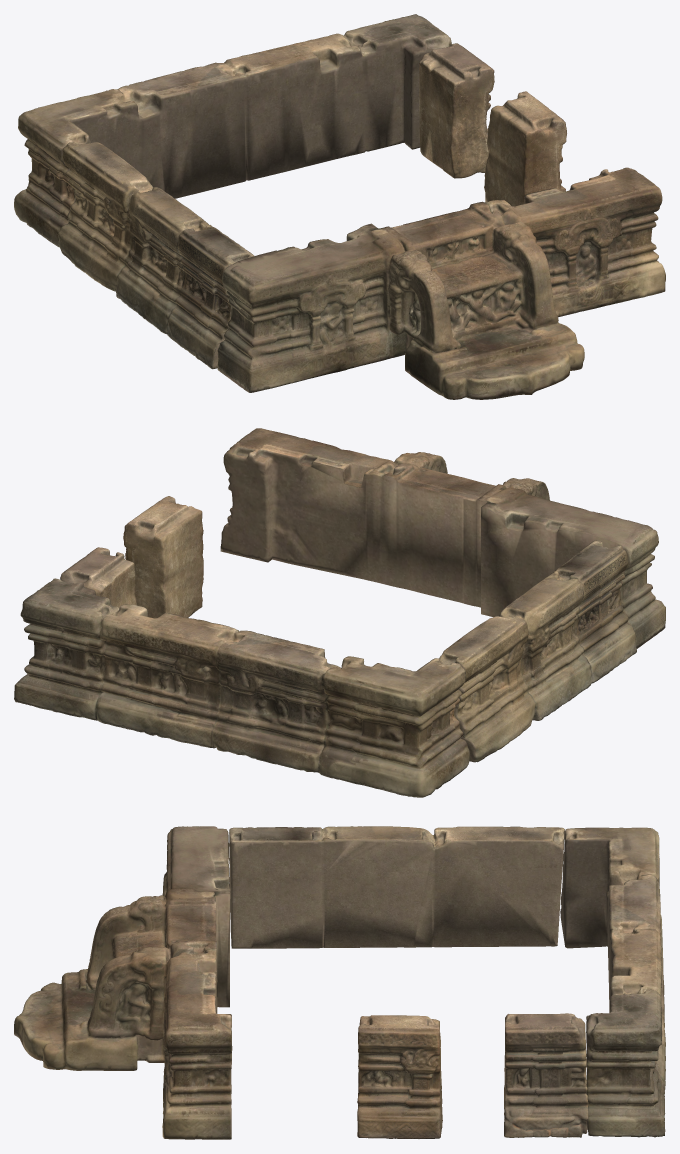
File: 1_daithomysonE1_final.glb
3 views of the same model, one above another, from view 1: azimuth 30°, elevation 25°; view 2: azimuth 150°, elevation 25°; view 3: azimuth 270°, elevation 25° (orthographic). The views are drawn at different scales.
Size of the model in its own units: 2.77 by 0.6856 by 3.58.
Materials: 4 (4 with a texture image).
